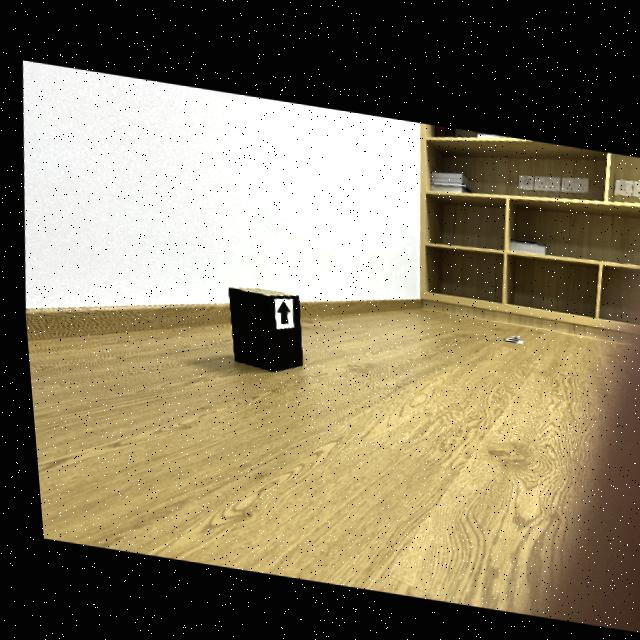UP: (272, 296, 286, 320)
